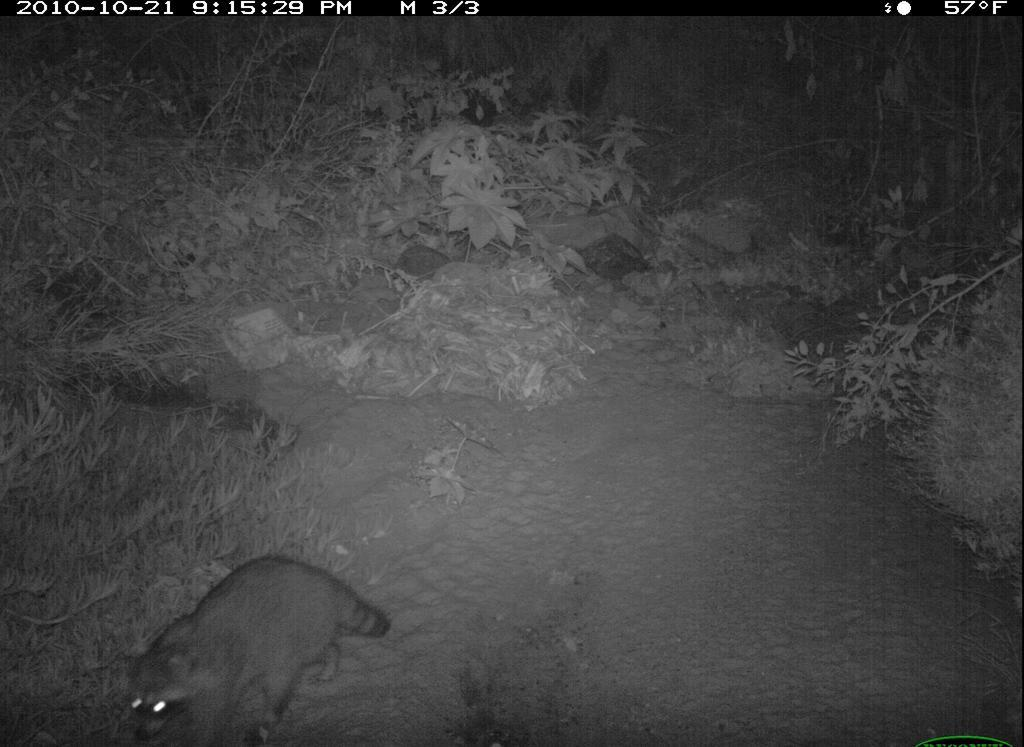raccoon: (121, 548, 399, 740)
